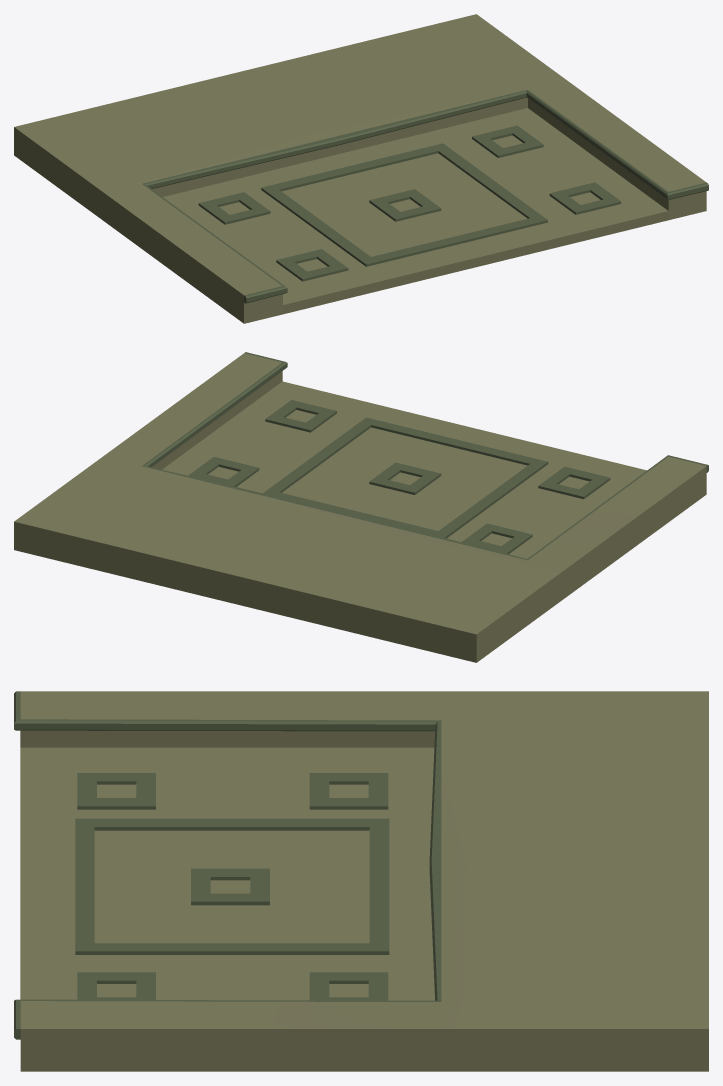
The model's file is ground_temple.fbx.
3 views of the same model, one above another, from view 1: azimuth 30°, elevation 25°; view 2: azimuth 150°, elevation 25°; view 3: azimuth 270°, elevation 25° (orthographic). The views are drawn at different scales.
Parts seen in each view (by area): view 1: ground_temple, floor_decor; view 2: ground_temple, floor_decor; view 3: ground_temple, floor_decor.
Boxes of the visible parts, left/top/right/bottom form: ground_temple: left=14, top=14, right=708, bottom=323; floor_decor: left=198, top=125, right=621, bottom=281; ground_temple: left=14, top=352, right=708, bottom=662; floor_decor: left=188, top=400, right=610, bottom=554; ground_temple: left=14, top=691, right=708, bottom=1071; floor_decor: left=75, top=773, right=389, bottom=1000.
Bounding box in the file's own units: 14.98 × 0.8813 × 13.03.
